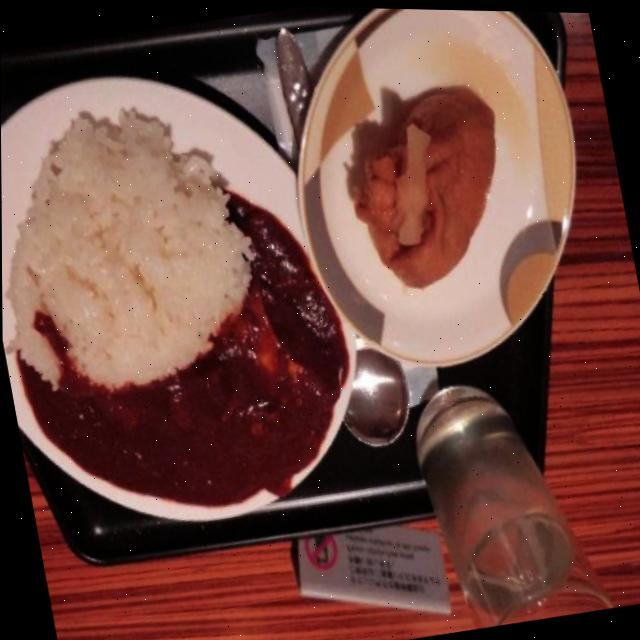牛肉菜式: (0, 11, 383, 581)
